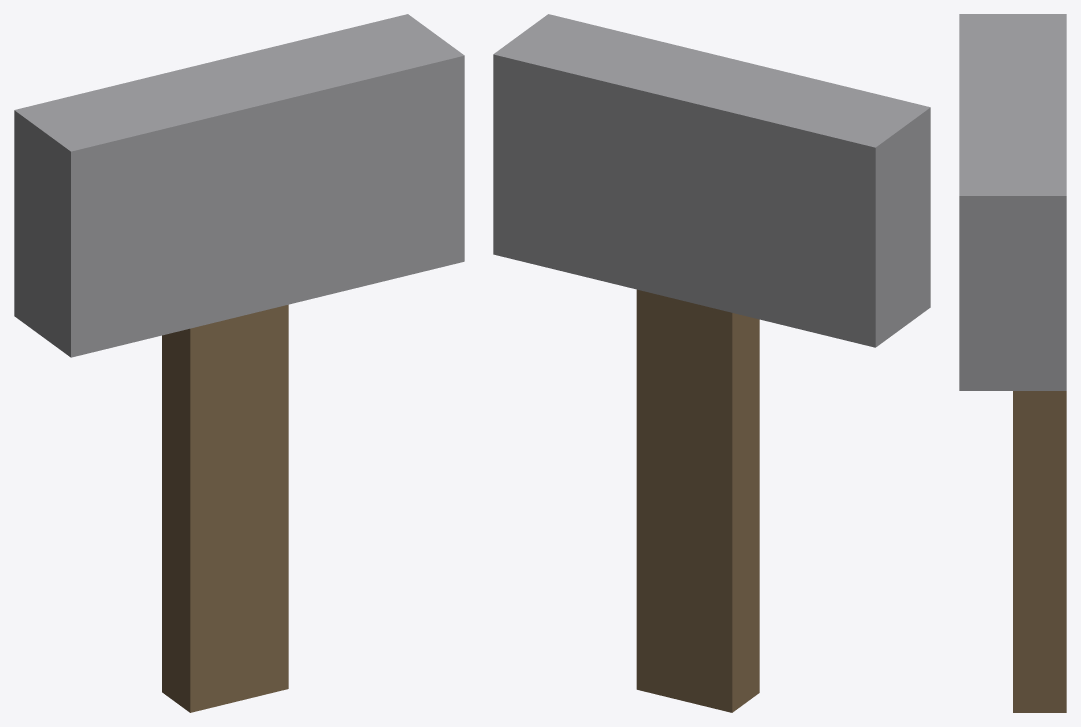
The model's file is martillo_remachar_aplanar_01.glb.
3 views of the same model, side by side, from view 1: azimuth 30°, elevation 25°; view 2: azimuth 150°, elevation 25°; view 3: azimuth 270°, elevation 25° (orthographic). The views are drawn at different scales.
Visible parts, largest first — view 1: martillo_remachar_aplanar; view 2: martillo_remachar_aplanar; view 3: martillo_remachar_aplanar.
Part boxes in pixels (bbox=[...]): martillo_remachar_aplanar: bbox=[14, 14, 464, 712]; martillo_remachar_aplanar: bbox=[493, 14, 930, 712]; martillo_remachar_aplanar: bbox=[959, 14, 1066, 712].
Bounding box in the file's own units: 0.6667 × 1 × 0.1667.
